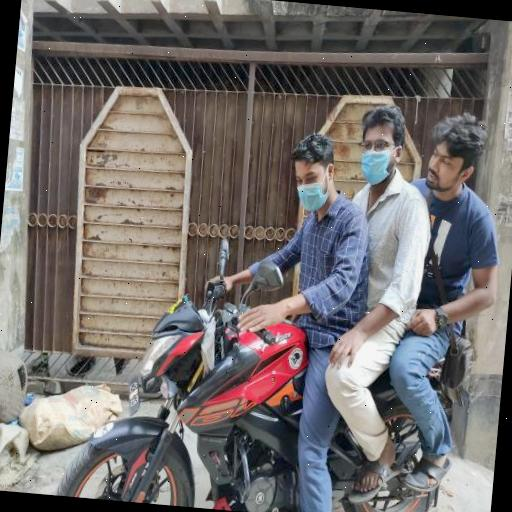no helmet: (246, 98, 358, 238)
triple riding: (61, 71, 500, 512)
